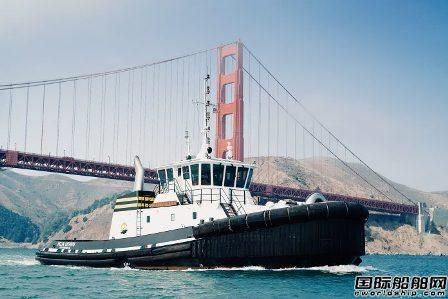otherboat: (36, 122, 367, 267)
